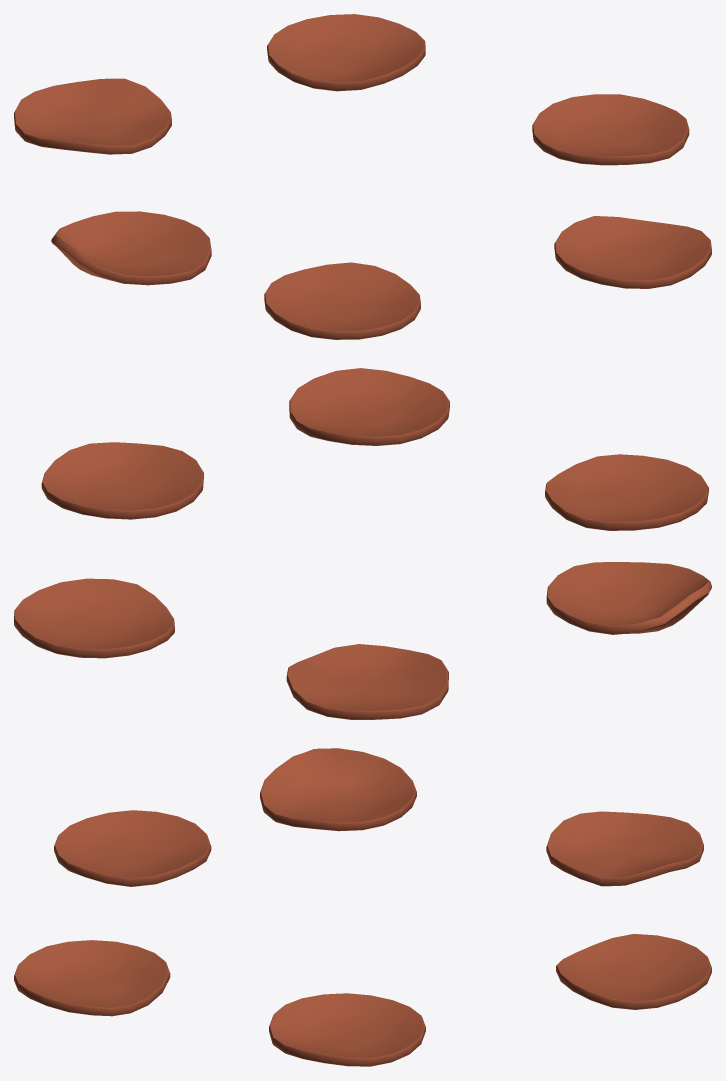
The model's file is pepperonis.glb.
3 renders of one model, top to bottom at view 1: azimuth 30°, elevation 25°; view 2: azimuth 150°, elevation 25°; view 3: azimuth 270°, elevation 25°, orthographic. The views are drawn at different scales.
Visible parts, largest first — view 1: polySurface145, polySurface147, polySurface143, polySurface146, polySurface142, polySurface144; view 2: polySurface142, polySurface147, polySurface145, polySurface144, polySurface143, polySurface146; view 3: polySurface146, polySurface144, polySurface143, polySurface142, polySurface145, polySurface147.
Part boxes in pixels (x1,y1,x2,y2): polySurface145: [14, 78, 171, 154]; polySurface147: [267, 14, 425, 91]; polySurface143: [264, 262, 420, 339]; polySurface146: [51, 211, 211, 285]; polySurface142: [532, 94, 689, 165]; polySurface144: [554, 216, 711, 288]; polySurface142: [41, 442, 203, 519]; polySurface147: [14, 578, 174, 658]; polySurface145: [286, 644, 448, 719]; polySurface144: [289, 368, 449, 445]; polySurface143: [545, 454, 708, 530]; polySurface146: [546, 562, 711, 634]; polySurface146: [260, 748, 416, 831]; polySurface144: [14, 940, 170, 1016]; polySurface143: [54, 810, 211, 886]; polySurface142: [269, 993, 425, 1066]; polySurface145: [546, 811, 703, 886]; polySurface147: [556, 934, 711, 1009].
Bounding box in the file's own units: 0.0671 × 0.00358 × 0.0669.
